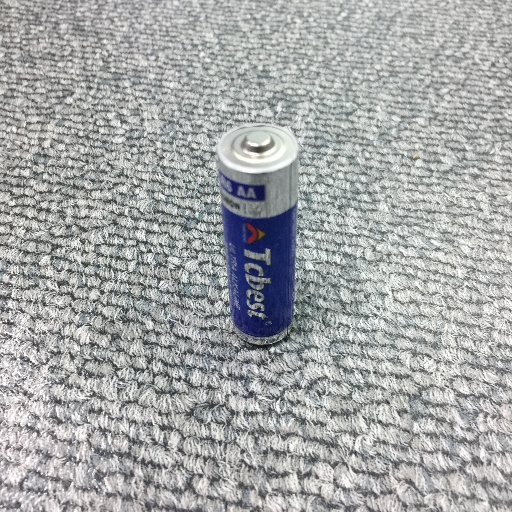Battery_0: (207, 115, 315, 361)
